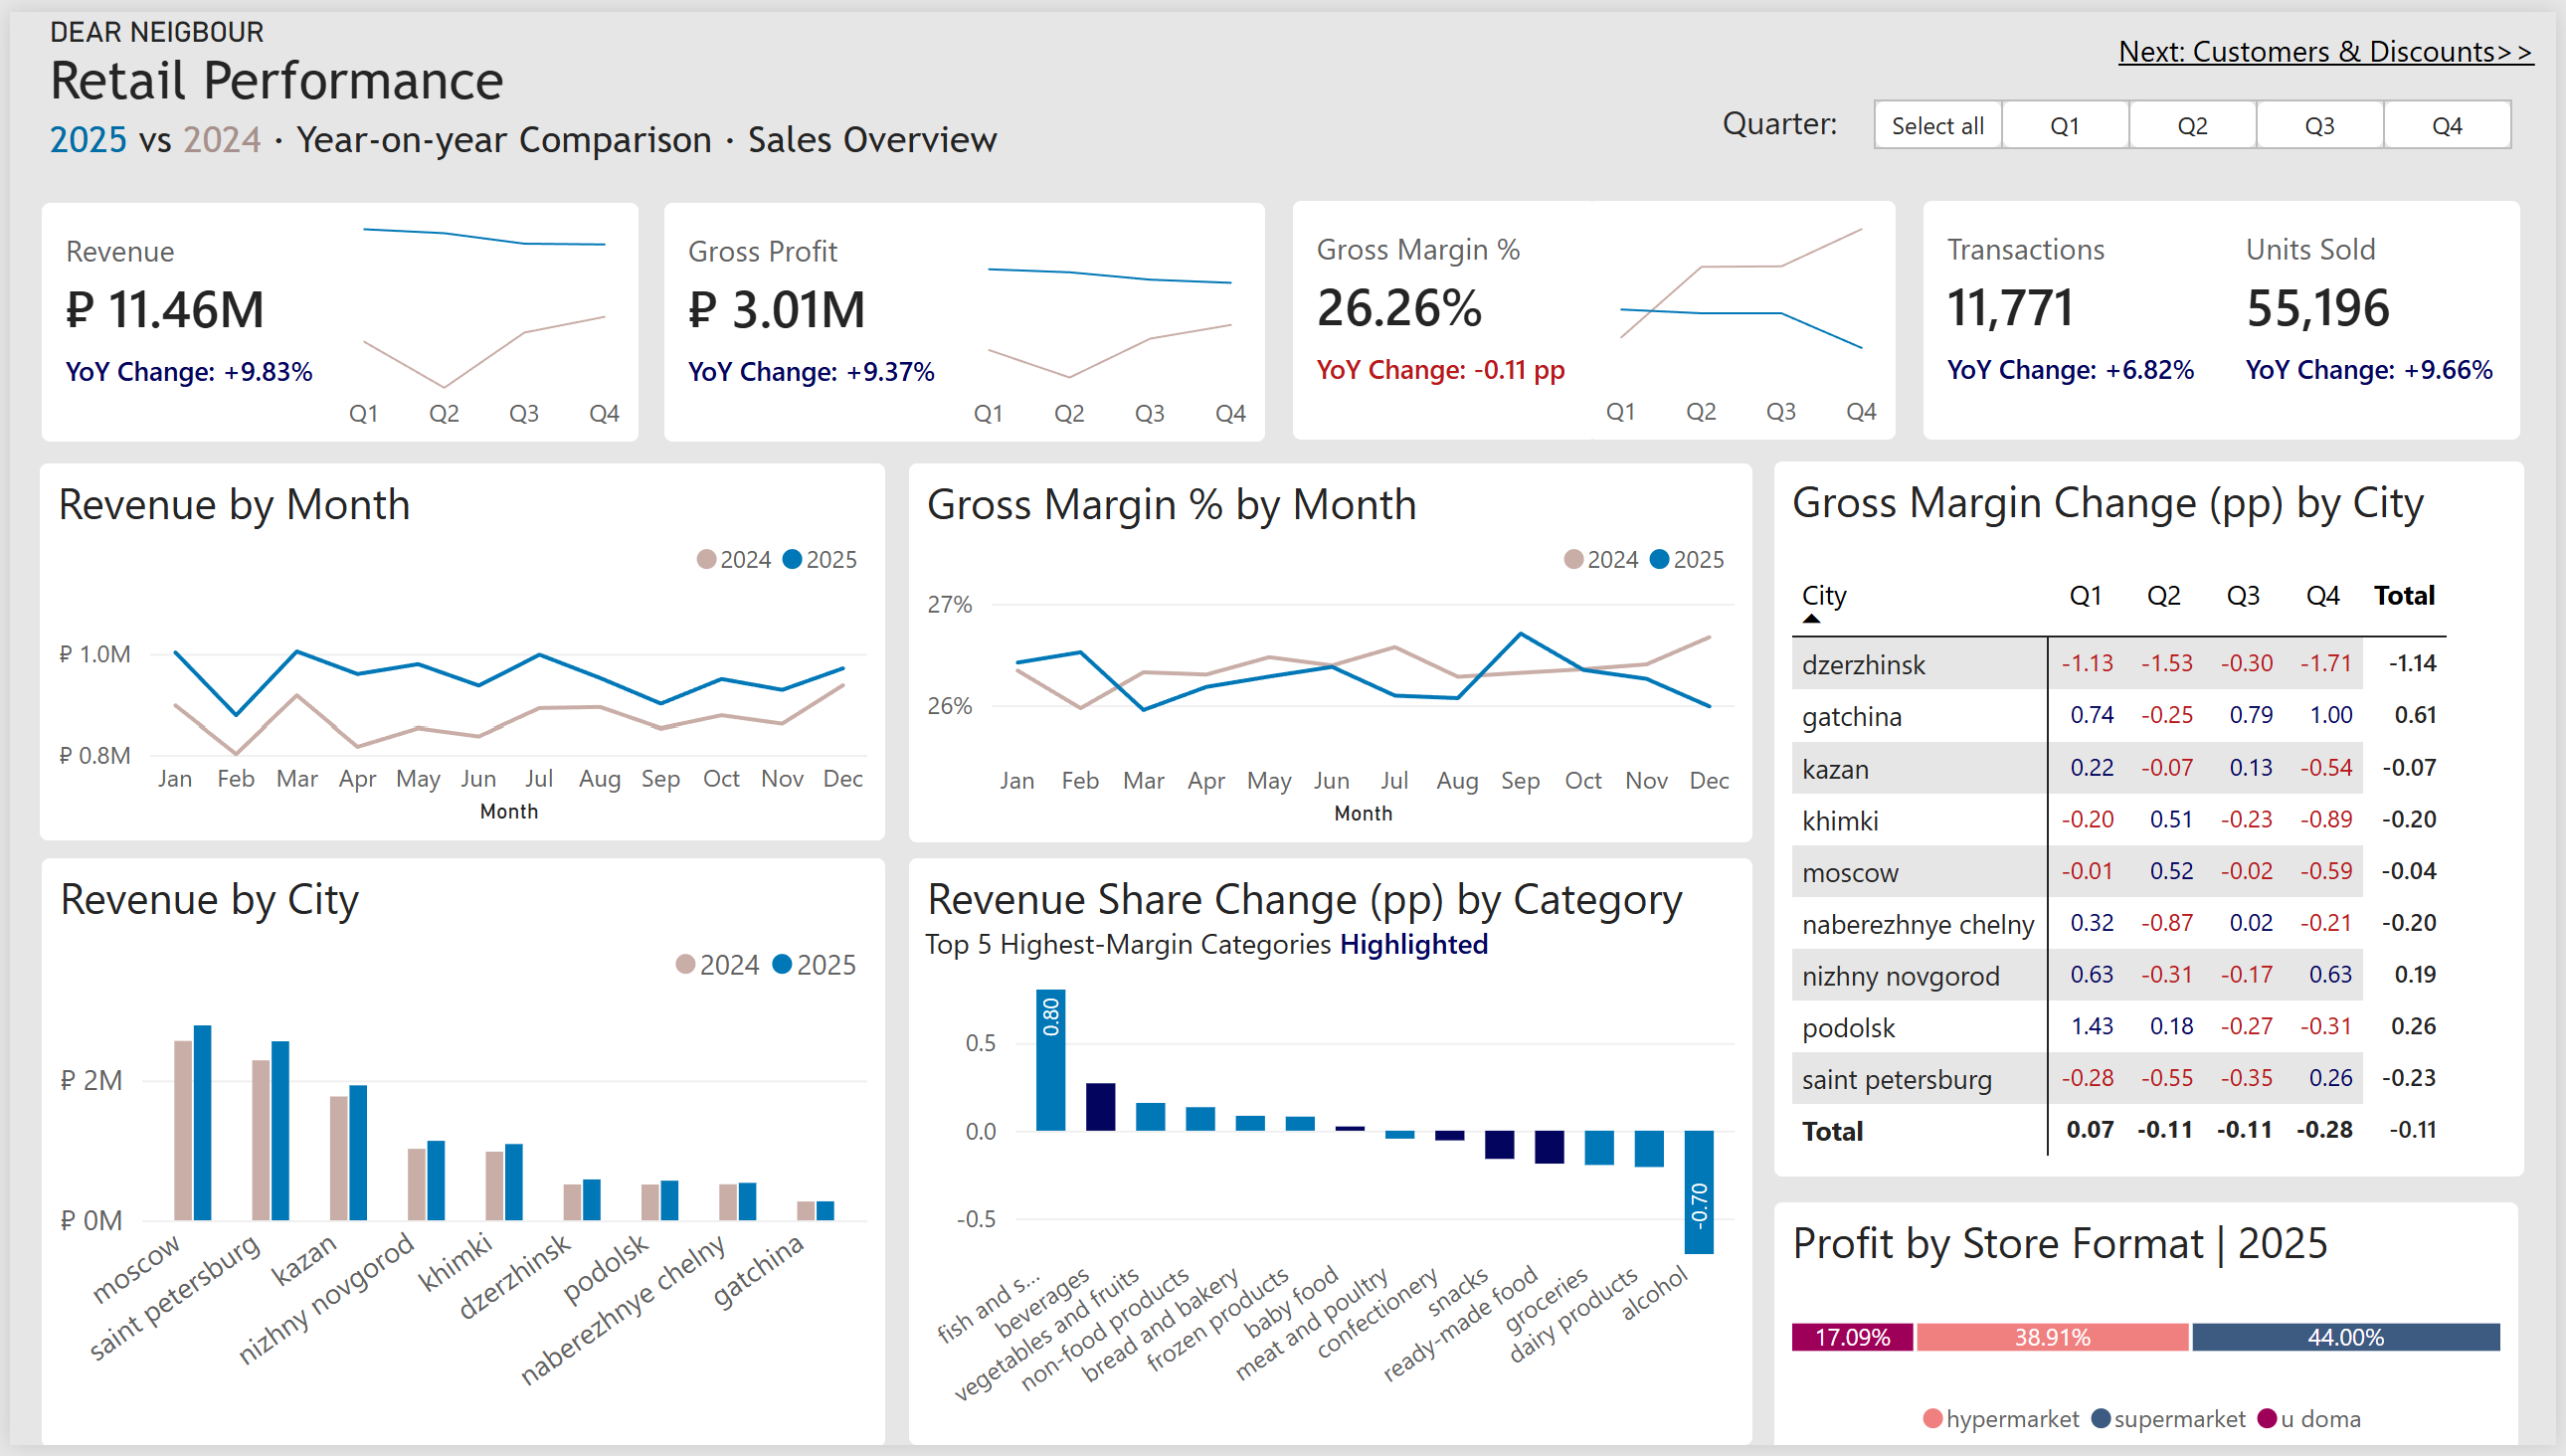

The dashboard page shown, as its layout file describes it:
{"tool":"powerbi","page":{"name":"Sales Overview","canvas":[1280,720],"ordinal":0},"visuals":[{"type":"textbox","box":[0,0,290,60],"z":0},{"type":"advancedSlicerVisual","fields":{"Values":["calendar.Quarter"]},"box":[936.7,43.8,325,25],"z":1000},{"type":"textbox","box":[0,53.5,545.7,33.1],"z":2000},{"type":"cardVisual","fields":{"Data":["fact_sales.Gross Margin %"]},"box":[645,95,150,120],"z":3000},{"type":"cardVisual","fields":{"Data":["fact_sales.Transactions"]},"box":[962.1,95,150,120],"z":4000},{"type":"lineChart","title":"Gross Margin","fields":{"Category":["calendar.Quarter"],"Series":["calendar.Year"],"Y":["fact_sales.Gross Margin %"]},"box":[793.3,95,155,120],"z":5000},{"type":"pivotTable","title":"Gross Margin Change (pp) by City","fields":{"Columns":["calendar.Quarter"],"Rows":["dim_stores.city"],"Values":["fact_sales.Margin Change 2025"]},"box":[886.9,226.4,376.6,359.1],"z":6000},{"type":"lineChart","title":"Gross Margin","fields":{"Category":["calendar.Quarter"],"Series":["calendar.Year"],"Y":["fact_sales.Revenue"]},"box":[161.4,95.9,154.5,120],"z":7000},{"type":"lineChart","title":"Gross Margin","fields":{"Category":["calendar.Quarter"],"Series":["calendar.Year"],"Y":["fact_sales.Gross Profit"]},"box":[475,95.6,155.6,120],"z":8000},{"type":"cardVisual","fields":{"Data":["fact_sales.Units Sold"]},"box":[1112.1,95,150,120],"z":9000},{"type":"lineChart","title":"Revenue by Month","fields":{"Category":["calendar.Month"],"Series":["calendar.Year"],"Y":["fact_sales.Revenue"]},"box":[15.4,227.4,425,188.3],"z":10000},{"type":"clusteredColumnChart","title":"Revenue by City","fields":{"Category":["dim_stores.city"],"Series":["calendar.Year"],"Y":["fact_sales.Revenue"]},"box":[16.5,425,423.9,296.3],"z":11000},{"type":"clusteredColumnChart","title":"Revenue Share Change  (pp) by Category","fields":{"Category":["dim_products.category"],"Y":["fact_sales.Revenue Share Change pp"]},"box":[452,425,423.9,295.3],"z":12000},{"type":"textbox","box":[451.7,457.9,363.3,30],"z":13000},{"type":"lineChart","title":"Gross Margin % by Month","fields":{"Category":["calendar.Month"],"Series":["calendar.Year"],"Y":["fact_sales.Gross Margin %"]},"box":[452,227.4,423.9,189.3],"z":14000},{"type":"hundredPercentStackedBarChart","title":"Profit by Store Format | 2025","fields":{"Category":["calendar.Year"],"Series":["dim_stores.store_format"],"Y":["fact_sales.Gross Profit"]},"box":[886.9,597.8,374.5,127.6],"z":15000},{"type":"textbox","box":[860.8,43.8,75.9,25],"z":16000},{"type":"cardVisual","fields":{"Data":["fact_sales.Gross Profit"]},"box":[328.5,95.9,150,120],"z":17000},{"type":"cardVisual","fields":{"Data":["fact_sales.Revenue"]},"box":[15.6,95.9,150,120],"z":18000},{"type":"actionButton","title":"Next: Customers & Loyalty","box":[1052.4,0,228.6,37],"z":19000}]}

Visuals, with their boxes in screenshot pixels (x1, y1, x2, y2), scaled from the page's 1280x720 canvas onto the 2566x1456 screenshot:
textbox: rect(0, 0, 582, 121)
advancedSlicerVisual - calendar.Quarter: rect(1878, 89, 2529, 139)
textbox: rect(0, 108, 1094, 175)
cardVisual - fact_sales.Gross Margin %: rect(1293, 192, 1593, 435)
cardVisual - fact_sales.Transactions: rect(1928, 192, 2230, 435)
"Gross Margin" lineChart: rect(1590, 192, 1901, 435)
"Gross Margin Change (pp) by City" pivotTable: rect(1778, 457, 2533, 1184)
"Gross Margin" lineChart: rect(323, 194, 634, 437)
"Gross Margin" lineChart: rect(952, 193, 1264, 436)
cardVisual - fact_sales.Units Sold: rect(2230, 192, 2530, 435)
"Revenue by Month" lineChart: rect(31, 459, 883, 840)
"Revenue by City" clusteredColumnChart: rect(33, 859, 883, 1455)
"Revenue Share Change  (pp) by Category" clusteredColumnChart: rect(906, 859, 1755, 1455)
textbox: rect(905, 926, 1634, 987)
"Gross Margin % by Month" lineChart: rect(906, 459, 1755, 842)
"Profit by Store Format | 2025" hundredPercentStackedBarChart: rect(1778, 1209, 2529, 1455)
textbox: rect(1726, 89, 1878, 139)
cardVisual - fact_sales.Gross Profit: rect(658, 194, 959, 437)
cardVisual - fact_sales.Revenue: rect(31, 194, 332, 437)
"Next: Customers & Loyalty" actionButton: rect(2109, 0, 2565, 75)
